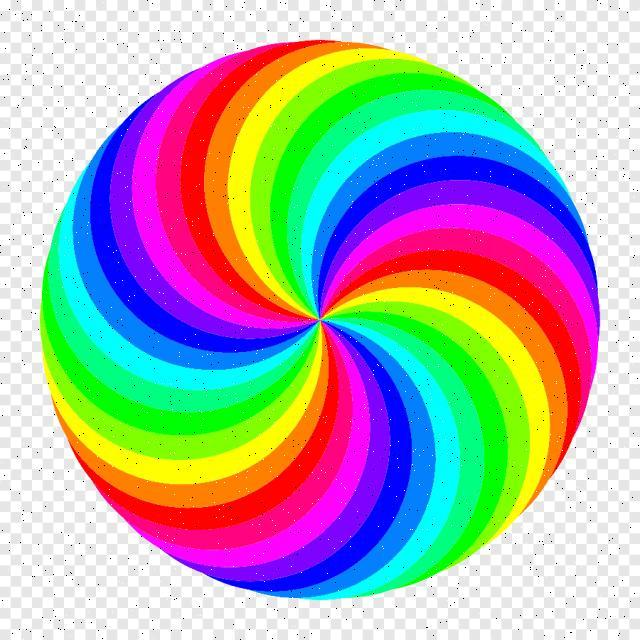Circle: (39, 39, 600, 601)
